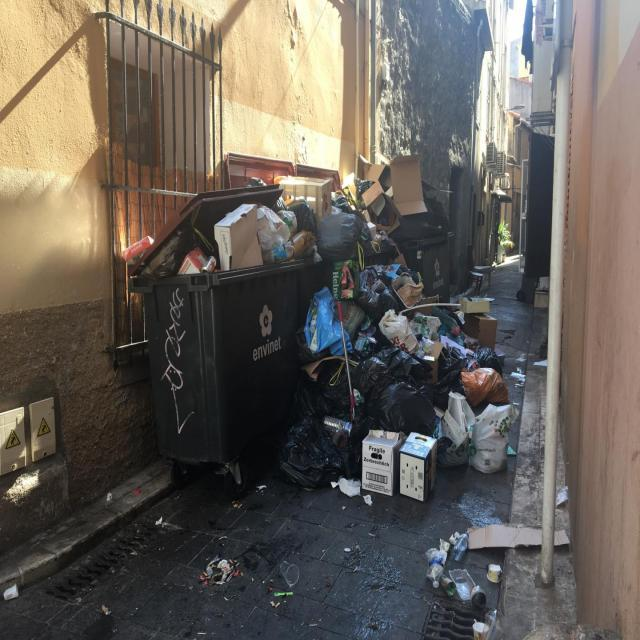garbage: (272, 262, 520, 508), (136, 198, 318, 276), (318, 156, 446, 262), (418, 524, 478, 604), (470, 513, 570, 554), (199, 550, 246, 592), (270, 556, 302, 600), (471, 606, 511, 640), (482, 560, 508, 588), (555, 479, 571, 514)
